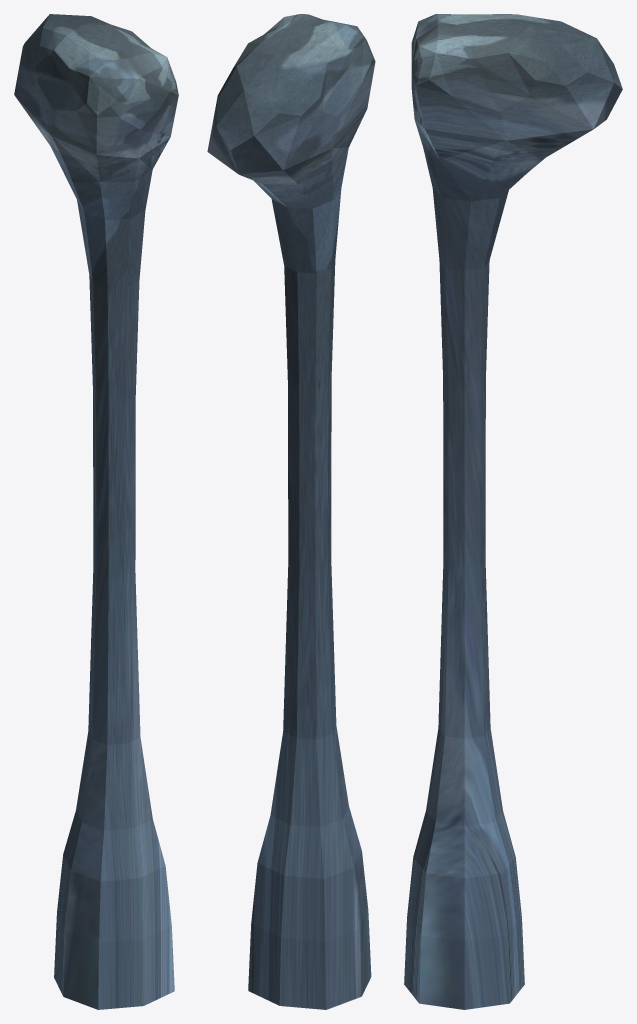
File: windmill.obj
The picture shows the model from 3 angles, left to right: view 1: azimuth 30°, elevation 25°; view 2: azimuth 150°, elevation 25°; view 3: azimuth 270°, elevation 25°; orthographic projection. The views are drawn at different scales.
Visible parts, largest first — view 1: Windmill.002; view 2: Windmill.002; view 3: Windmill.002.
Boxes of the visible parts, x1,y1,x2,y2 form: Windmill.002: (14, 14, 178, 1009); Windmill.002: (207, 14, 375, 1009); Windmill.002: (404, 14, 622, 1009).
Size of the model in its own units: 3.36 by 29.41 by 6.08.
